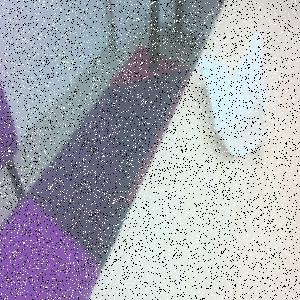Cup: (198, 32, 270, 158)
